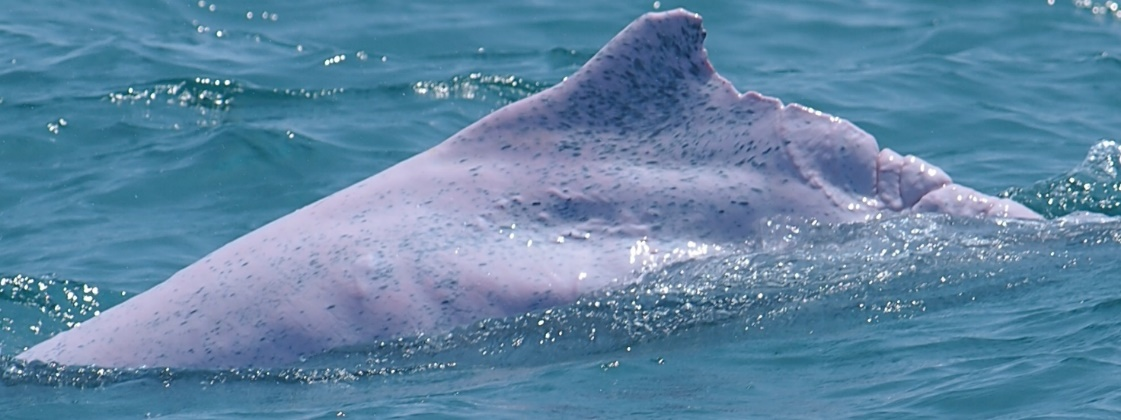fin: (6, 7, 1071, 394)
